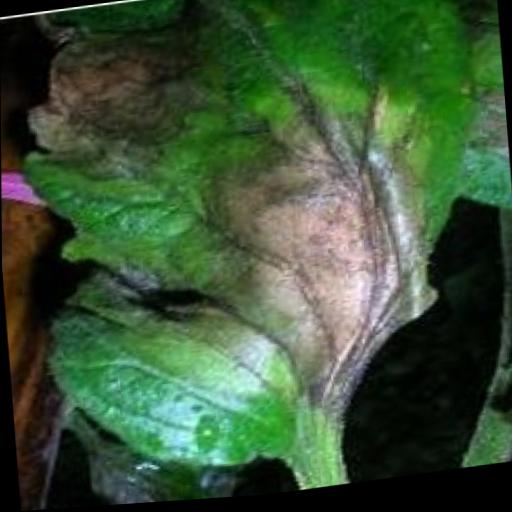Late Blight: (10, 0, 506, 501)
